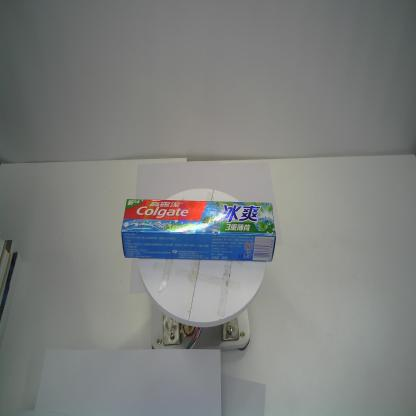Personal Hygiene: (120, 198, 277, 262)
